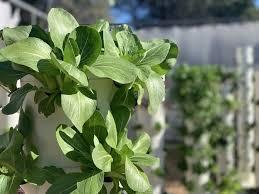Healthy-Pechay: (1, 7, 175, 191), (47, 6, 79, 50), (90, 58, 138, 85), (1, 84, 36, 115), (22, 161, 50, 186), (1, 24, 32, 46), (157, 42, 179, 73), (0, 168, 18, 193), (89, 17, 109, 33), (11, 61, 32, 75), (55, 74, 65, 91), (30, 150, 39, 161), (161, 75, 165, 82)
